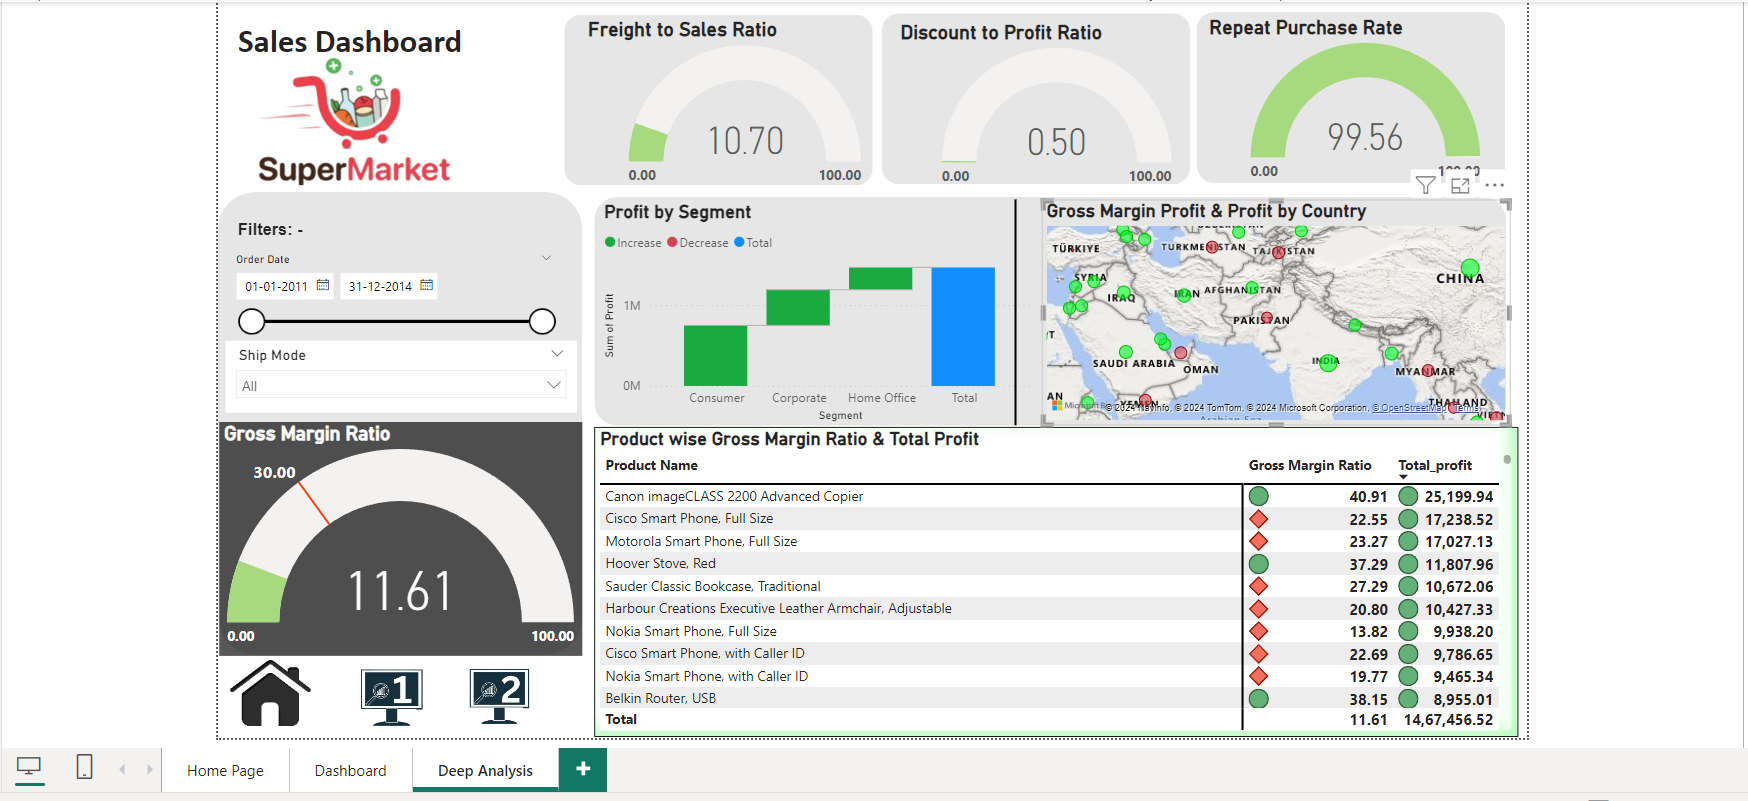

The dashboard page shown, as its layout file describes it:
{"tool":"powerbi","page":{"name":"Deep Analysis","canvas":[1280,720],"ordinal":2},"visuals":[{"type":"group","id":"g1","title":"Group 1","box":[338.6,9.6,920.8,170.2],"z":0},{"type":"shape","box":[648.7,11,301.9,167.4],"z":0,"group":"g1"},{"type":"shape","box":[367.8,190.8,892.3,223.7],"z":0,"group":"g4"},{"type":"image","box":[2.5,622.3,97.3,97.3],"z":0,"group":"g5"},{"type":"shape","box":[338.6,12.3,301.9,167.4],"z":500,"group":"g1"},{"type":"shape","box":[0,185.8,356.4,452.5],"z":500,"group":"g2"},{"type":"shape","box":[957.5,9.6,301.9,167.4],"z":1000,"group":"g1"},{"type":"group","id":"g2","title":"Group 1","box":[0,185.8,356.4,452.5],"z":1000},{"type":"image","box":[131.4,638.3,82.1,82.1],"z":1000,"group":"g5"},{"type":"gauge","fields":{"Y":["Measures_.Freight to Sales Ratio"]},"box":[356.8,15.6,317,172.9],"z":2000,"group":"g3"},{"type":"gauge","fields":{"Y":["Measures_.Gross Margin Ratio"]},"box":[1.3,410.7,355.1,228.8],"z":2000},{"type":"image","box":[237.6,638.3,82.1,82.1],"z":2000,"group":"g5"},{"type":"gauge","fields":{"Y":["Measures_.Discount to Profit Ratio"]},"box":[662.8,18.3,315.6,171.5],"z":3000,"group":"g3"},{"type":"pivotTable","title":"Product wise Gross Margin Ratio & Total Profit ","fields":{"Rows":["project salesdata.Product Name"],"Values":["Measures_.Gross Margin Ratio","Measures_.Total_profit"]},"box":[367.8,415.8,903.6,303.3],"z":3000},{"type":"group","id":"g3","title":"Group 2","box":[356.8,13.7,923.5,175.6],"z":4000},{"type":"image","box":[7.6,0,271.7,217.4],"z":5000},{"type":"gauge","fields":{"Y":["Measures_.Repeat Purchase Rate"]},"box":[965,13.7,315.6,171.5],"z":5000,"group":"g3"},{"type":"textbox","box":[15,13.8,256.2,51.2],"z":6000},{"type":"slicer","fields":{"Values":["project salesdata.Order Date"]},"box":[5,240,333.8,100],"z":7000},{"type":"slicer","fields":{"Values":["project salesdata.Ship Mode"]},"box":[7.5,331.2,343.8,70],"z":8000},{"type":"group","id":"g4","title":"Group 1","box":[367.8,190.8,892.3,223.7],"z":9000},{"type":"group","id":"g5","title":"Group 2","box":[2.5,622.3,317.2,98.1],"z":10000},{"type":"textbox","box":[15.2,208.5,245.2,49.3],"z":11000},{"type":"map","title":"Gross Margin Profit  &  Profit by Country","fields":{"Category":["project salesdata.Country"],"Size":["Divide(Sum(project salesdata.Profit), ScopedEval(Sum(project salesdata.Profit), []))"]},"box":[806.3,193.4,457.5,221.2],"z":12000},{"type":"waterfallChart","title":"Profit by Segment","fields":{"Y":["Sum(project salesdata.Profit)"],"Category":["project salesdata.Segment"]},"box":[372.8,194.6,427.2,221.2],"z":13000},{"type":"shape","box":[610.4,193.4,340,221.2],"z":14000}]}

Visuals, with their boxes on the page's 1280x720 design canvas (x1, y1, x2, y2). These are canvas units, not pixel positions in the 1748x801 screenshot, which may show the page scaled, cropped or inside an application window:
"Group 1" group: (339,10,1259,180)
shape: (649,11,951,178)
shape: (368,191,1260,414)
image: (2,622,100,720)
shape: (339,12,640,180)
shape: (0,186,356,638)
shape: (958,10,1259,177)
"Group 1" group: (0,186,356,638)
image: (131,638,214,720)
gauge - Measures_.Freight to Sales Ratio: (357,16,674,188)
gauge - Measures_.Gross Margin Ratio: (1,411,356,640)
image: (238,638,320,720)
gauge - Measures_.Discount to Profit Ratio: (663,18,978,190)
"Product wise Gross Margin Ratio & Total Profit " pivotTable: (368,416,1271,719)
"Group 2" group: (357,14,1280,189)
image: (8,0,279,217)
gauge - Measures_.Repeat Purchase Rate: (965,14,1281,185)
textbox: (15,14,271,65)
slicer - project salesdata.Order Date: (5,240,339,340)
slicer - project salesdata.Ship Mode: (8,331,351,401)
"Group 1" group: (368,191,1260,414)
"Group 2" group: (2,622,320,720)
textbox: (15,208,260,258)
"Gross Margin Profit  &  Profit by Country" map: (806,193,1264,415)
"Profit by Segment" waterfallChart: (373,195,800,416)
shape: (610,193,950,415)
